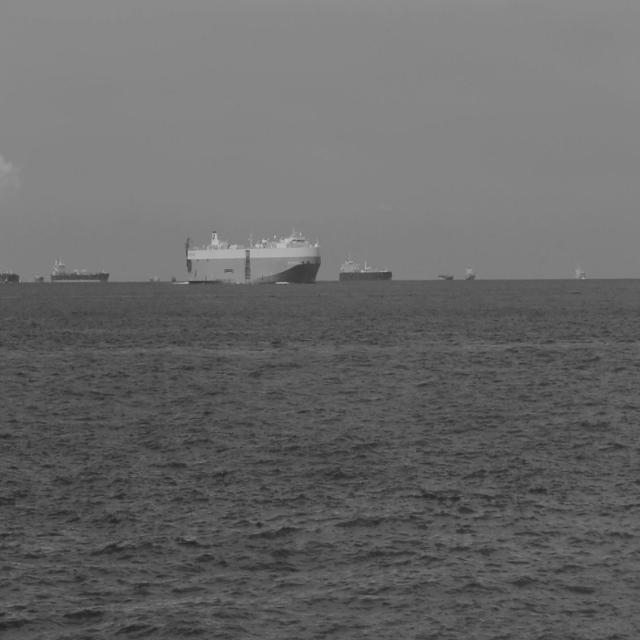boat: (149, 273, 160, 283)
ship: (183, 226, 321, 286), (50, 255, 110, 285), (338, 254, 392, 282), (0, 264, 20, 285), (464, 264, 476, 282), (574, 263, 586, 280), (34, 269, 44, 285), (437, 273, 454, 281), (2, 276, 10, 284)
